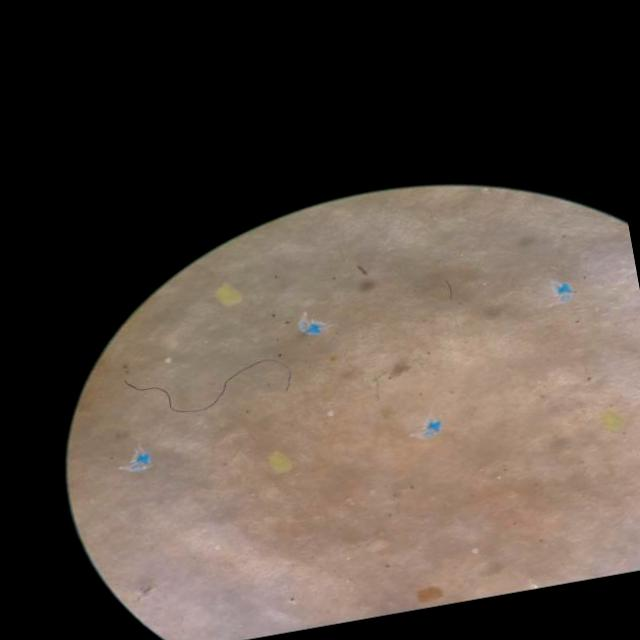fiber: (123, 357, 291, 413), (305, 322, 322, 331)
film: (119, 450, 149, 469), (548, 279, 572, 301), (414, 421, 441, 438), (298, 324, 330, 335)
fragment: (216, 283, 241, 304), (267, 451, 289, 472), (416, 586, 442, 603), (601, 410, 620, 428)
pellet: (326, 409, 333, 416), (471, 547, 479, 553), (165, 356, 170, 363)
